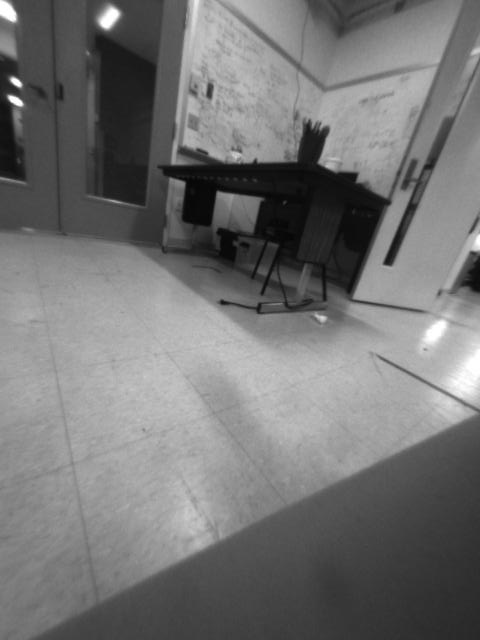door_handle: (18, 76, 52, 104)
